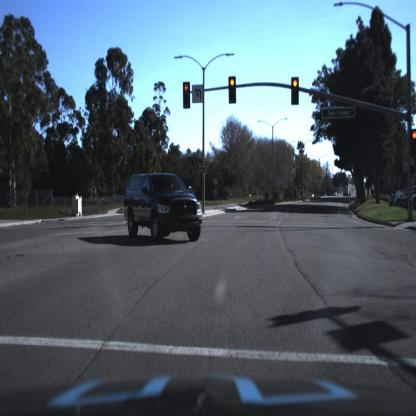cars: (124, 172, 202, 243)
